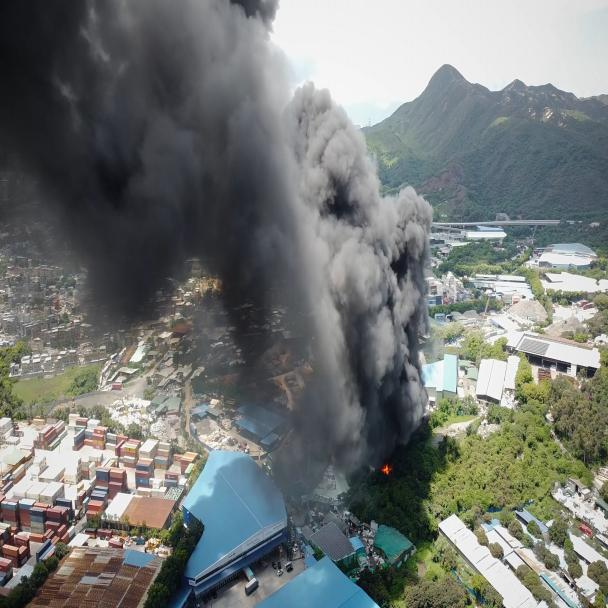Fire: (245, 402, 492, 524)
smoke: (0, 9, 498, 368)
